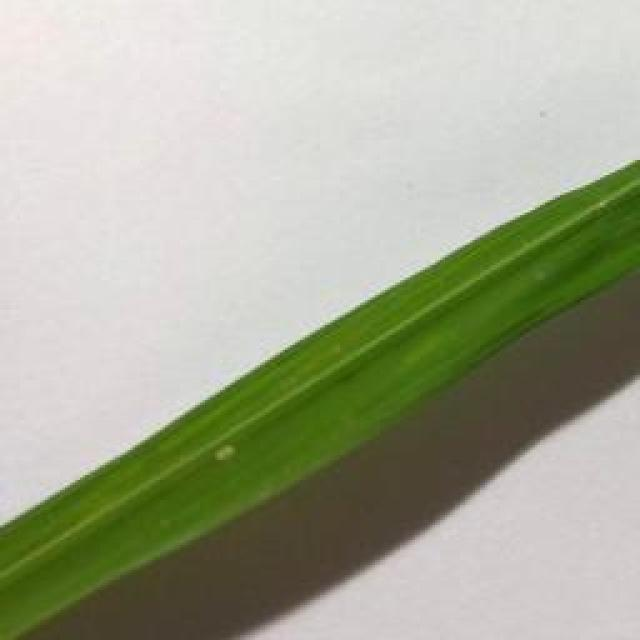Healthy-Plant: (238, 147, 640, 532), (0, 403, 211, 640)
